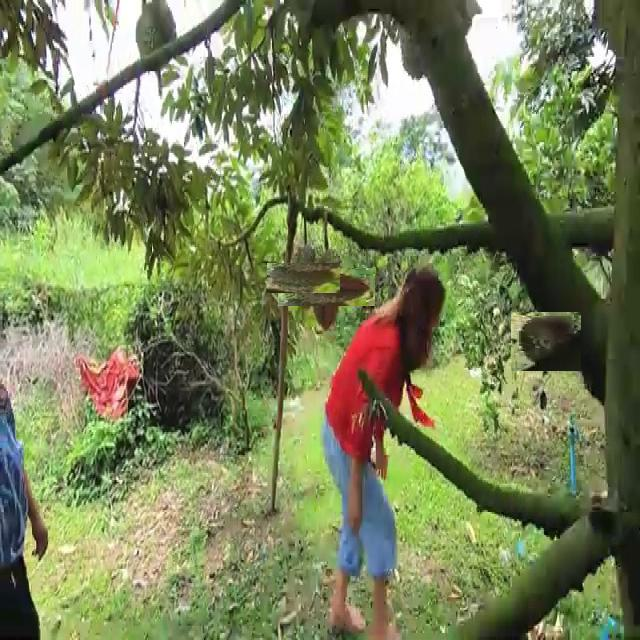durian: (293, 253, 361, 321), (513, 308, 579, 374), (130, 1, 180, 72), (278, 252, 330, 304)
